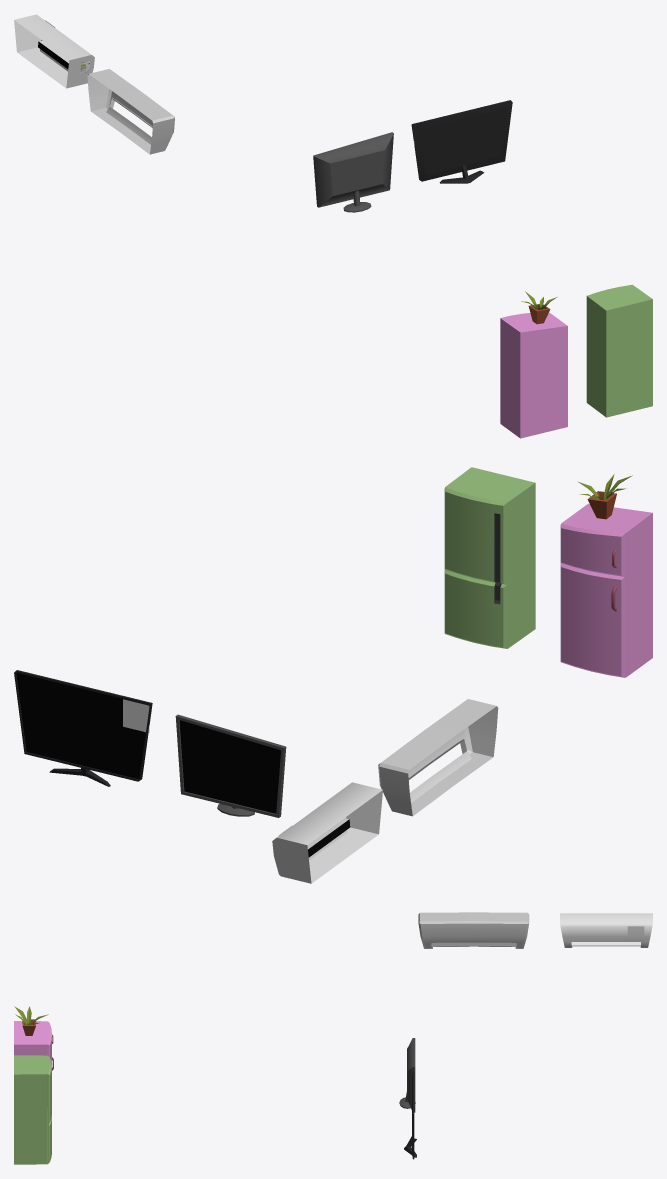
File: ObjetosSustentaveis.fbx
The picture shows the model from 3 angles, top to bottom: view 1: azimuth 30°, elevation 25°; view 2: azimuth 150°, elevation 25°; view 3: azimuth 270°, elevation 25°; orthographic projection. The views are drawn at different scales.
Visible parts, largest first — view 1: Cube.010, Cube.005, Plane.002, Cube.036, Cube.034, Cube.035; view 2: Cube.010, Cube.005, Plane.002, Cube.036, Cube.034, Cube.035, Cube.002; view 3: Cube.010, Cube.034, Cube.035, Cube.005, Cube.036.
Part boxes in pixels (x1,y1,x2,y2): Cube.010: (586,284,652,417); Cube.005: (500,312,567,438); Plane.002: (411,100,512,183); Cube.036: (313,132,393,212); Cube.034: (87,69,174,154); Cube.035: (14,14,94,88); Cube.010: (444,467,535,648); Cube.005: (560,503,652,677); Plane.002: (14,670,152,786); Cube.036: (175,714,286,817); Cube.034: (378,699,498,816); Cube.035: (272,782,382,883); Cube.002: (577,474,632,519); Cube.010: (14,1055,51,1164); Cube.034: (418,912,529,948); Cube.035: (560,913,652,947); Cube.005: (14,1021,53,1070); Cube.036: (399,1038,415,1112).
Bounding box in the file's own units: 1905 × 883 × 3514.
